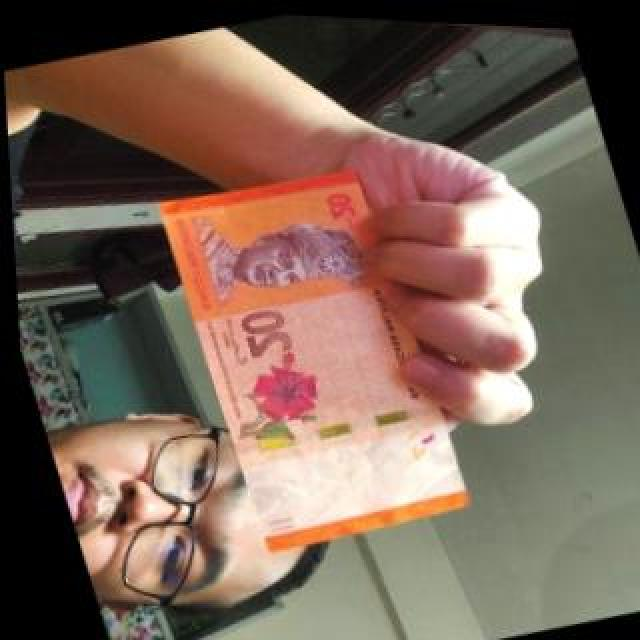20 Ringgit: (144, 146, 471, 559)
